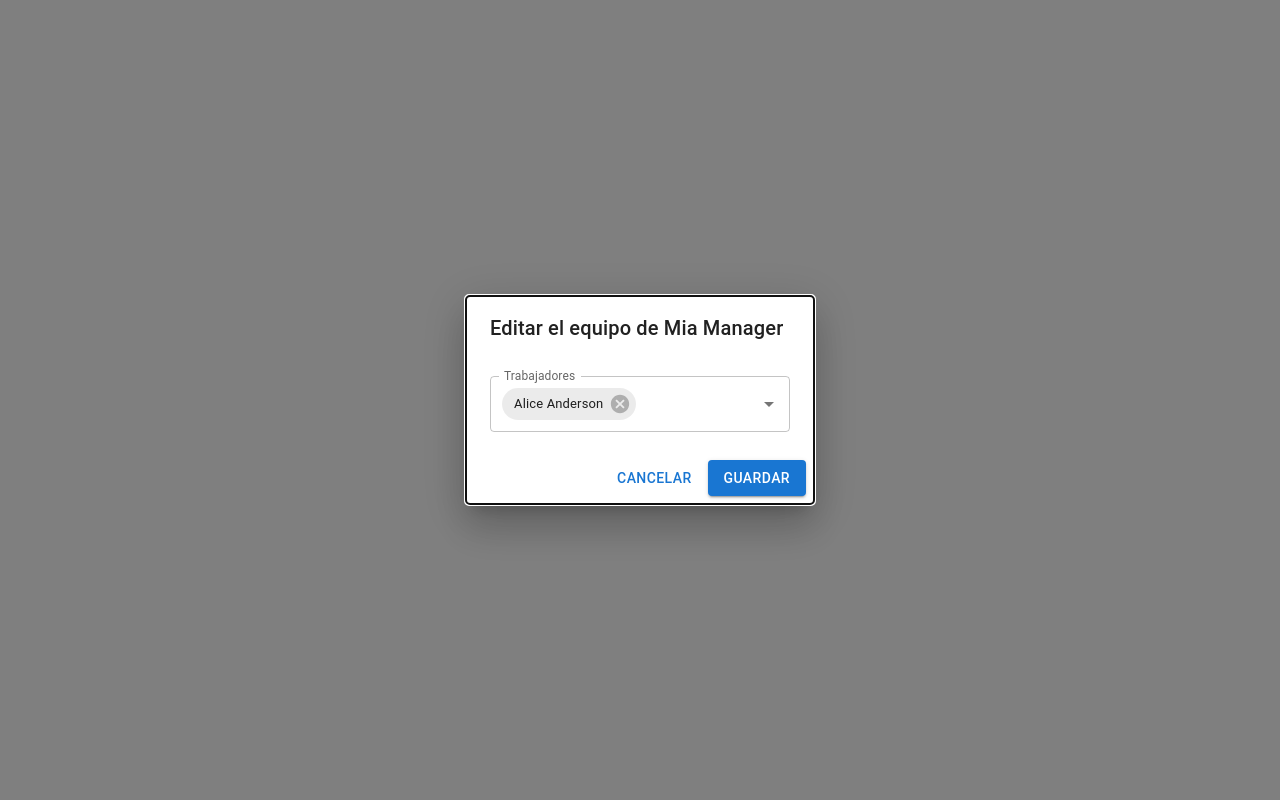
it: TeamEditModal › shows an error when saving fails
The width and height of the screenshot is (1280, 800).
Check: the text "Alice Anderson" is shown, box x1=514 y1=396 x2=603 y2=411
Click the button "Guardar" at (757, 478), box x1=708 y1=460 x2=806 y2=496
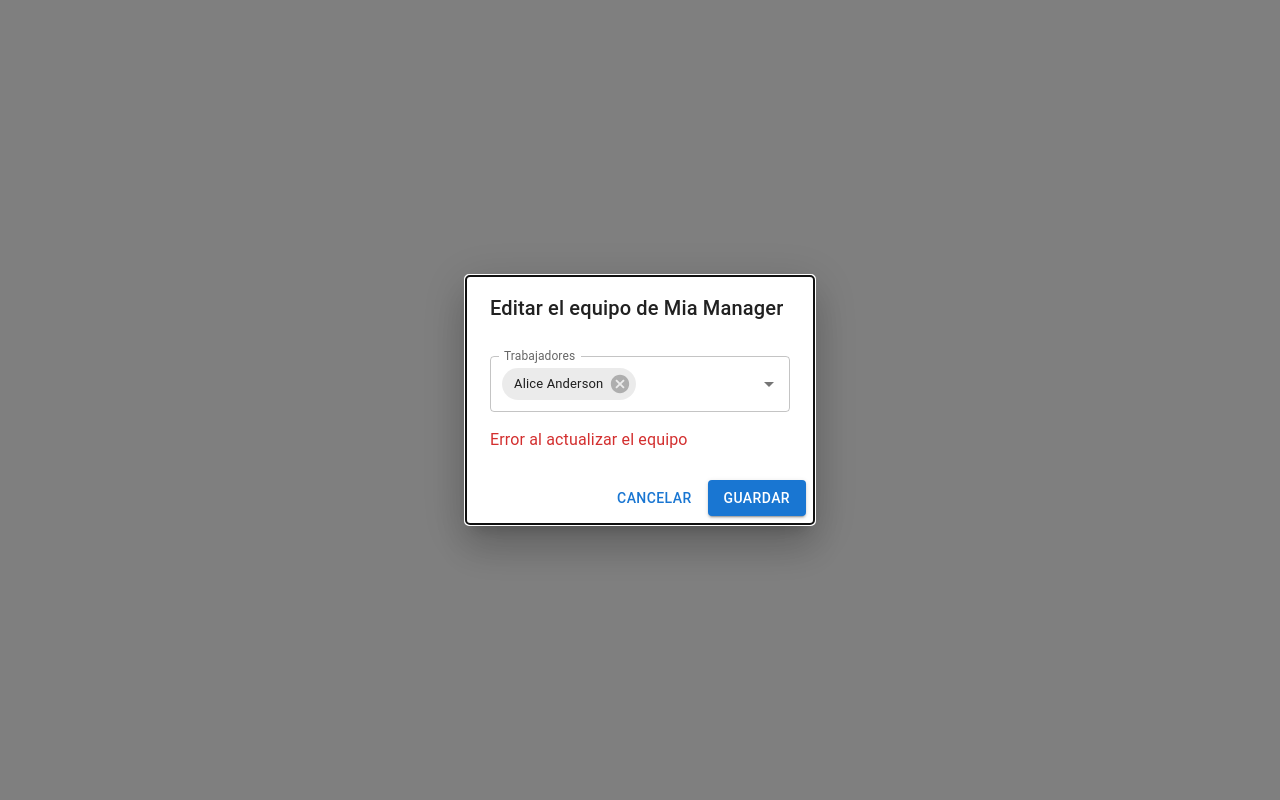
Check: the text "Error al actualizar el equipo" is shown, box x1=490 y1=430 x2=688 y2=449
